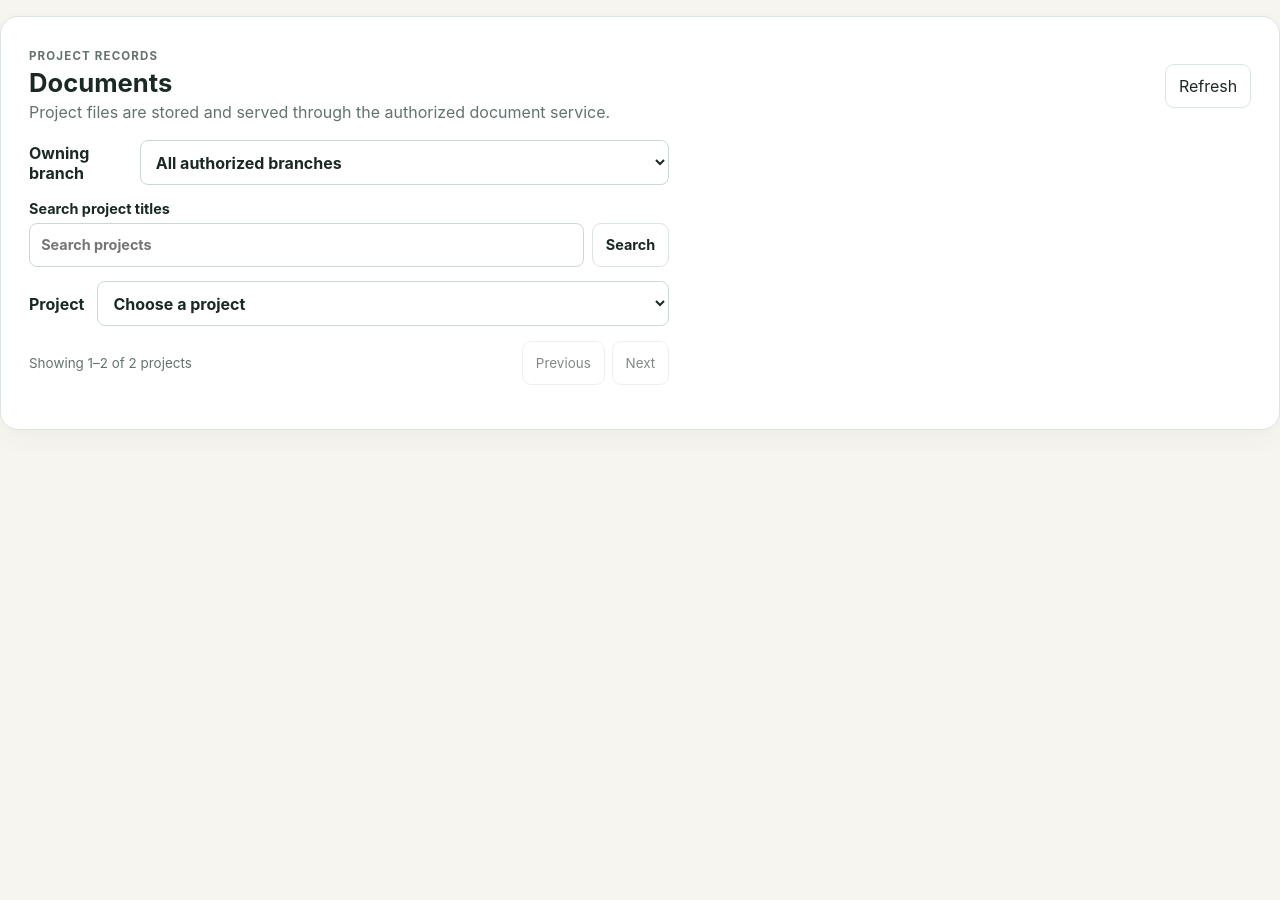
it: DocumentWorkspace authorized project picker › clears the prior register and confidential grants after exact project denial
Select "Central" in the dropdown named "Document project branch": (404, 163) [140, 140, 669, 185]
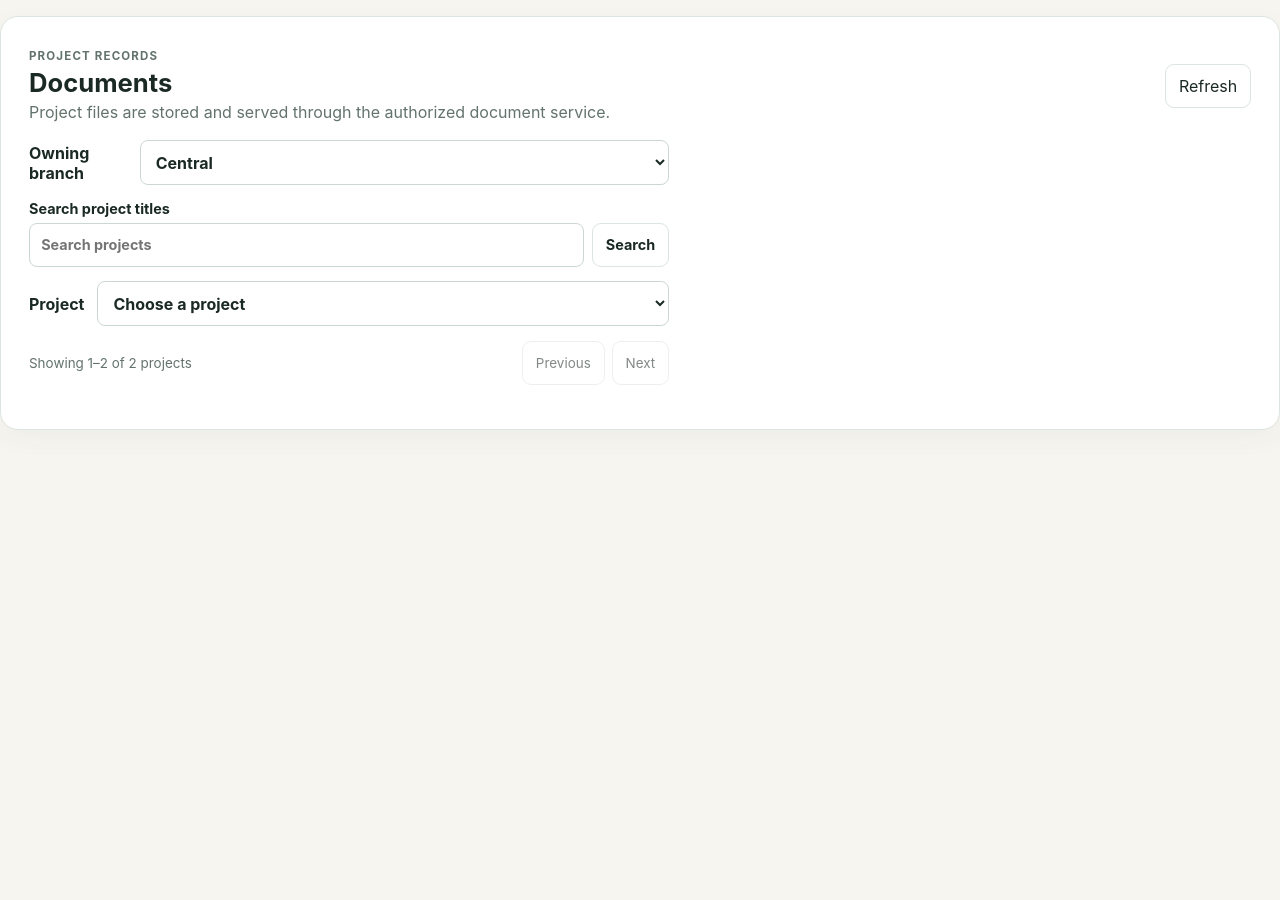
Expected: the text "Showing 1–2 of 2 projects" is shown, [29, 354, 192, 370]
Select "Project One" in the dropdown named "Document project": (383, 304) [97, 281, 669, 326]
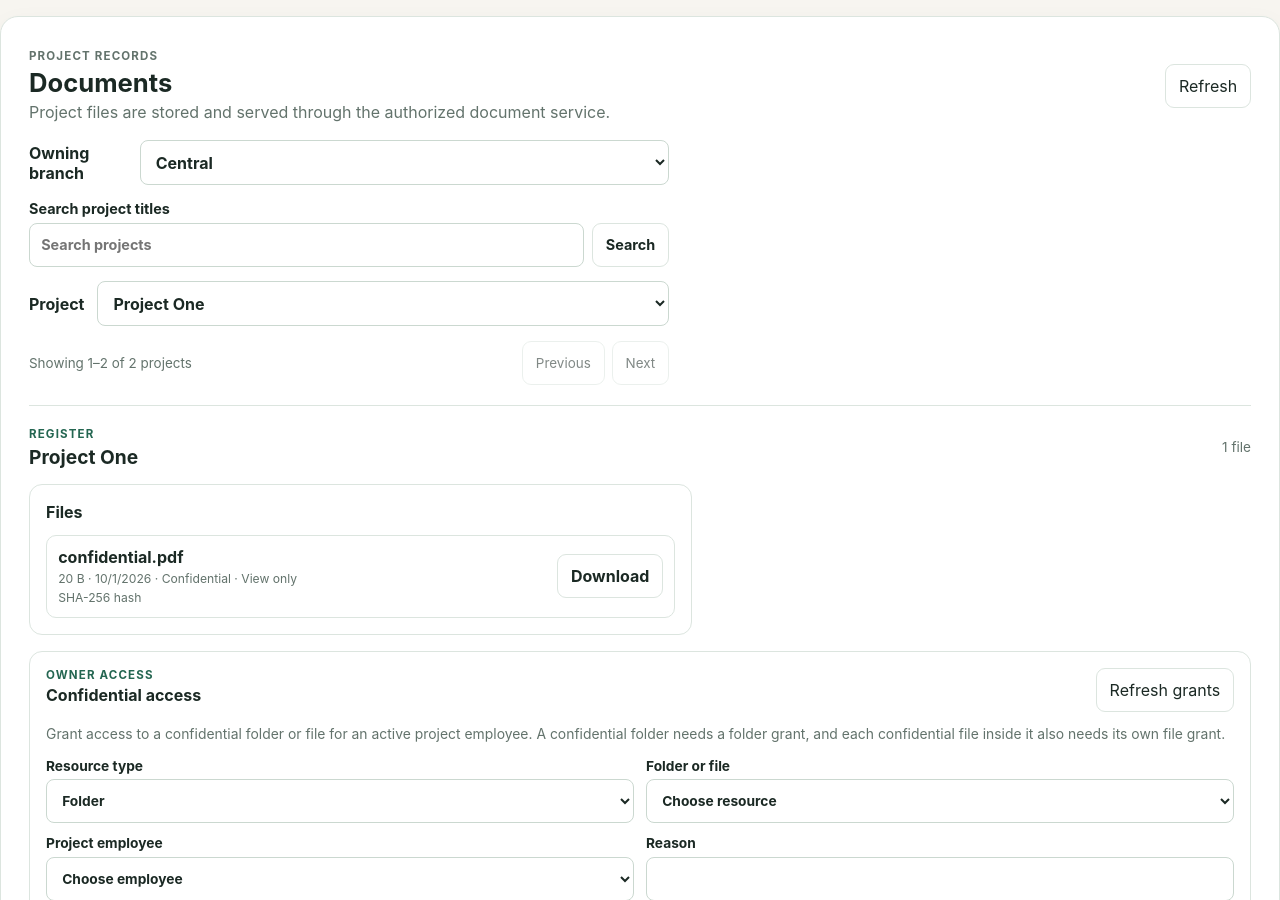
Result: the text "confidential.pdf" is shown at [58, 548, 184, 568]
Select "Project Two" in the dropdown named "Document project": (383, 304) [97, 281, 669, 326]
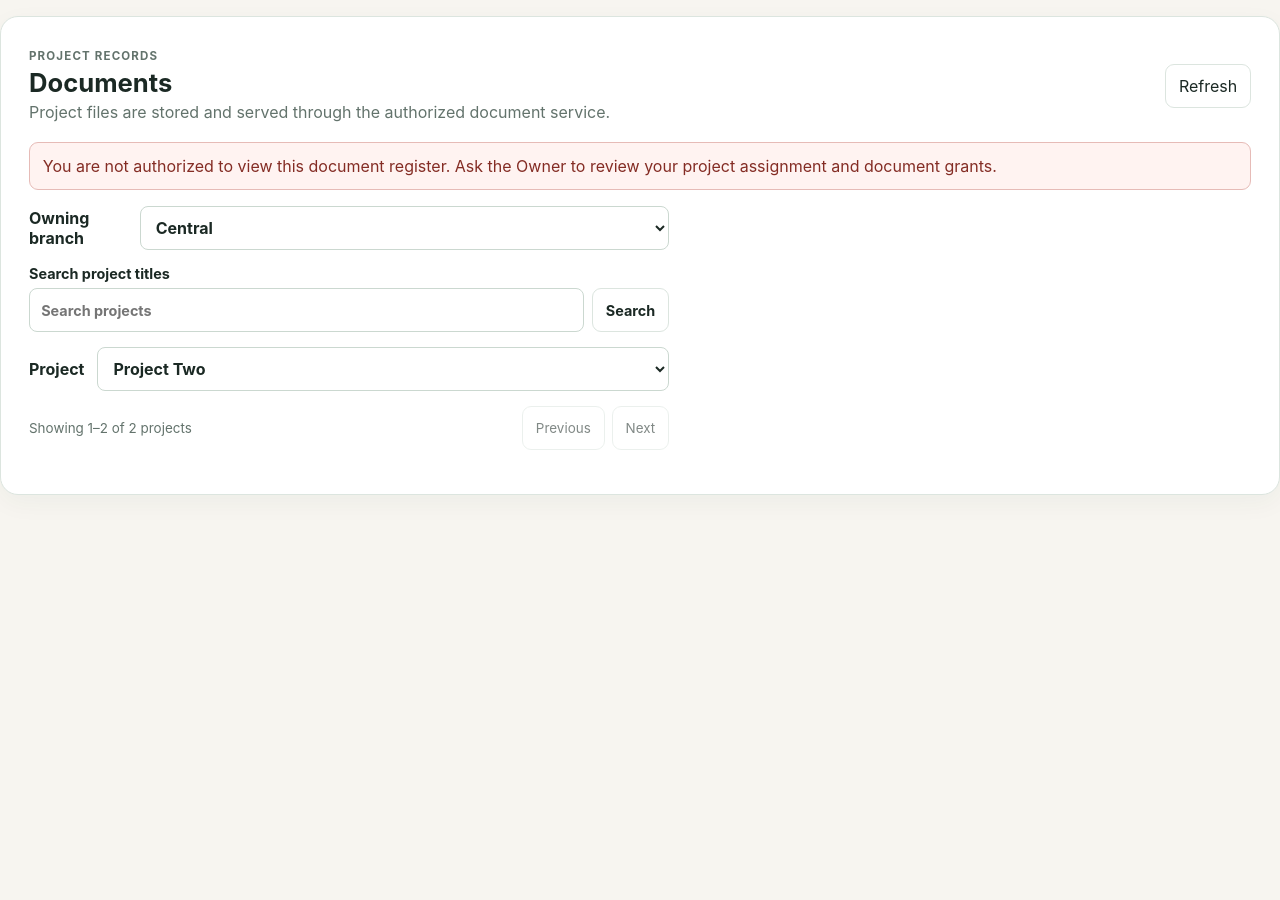
Result: the message shows "not authorized" at [43, 156, 997, 176]
Result: the text "confidential.pdf" is gone
